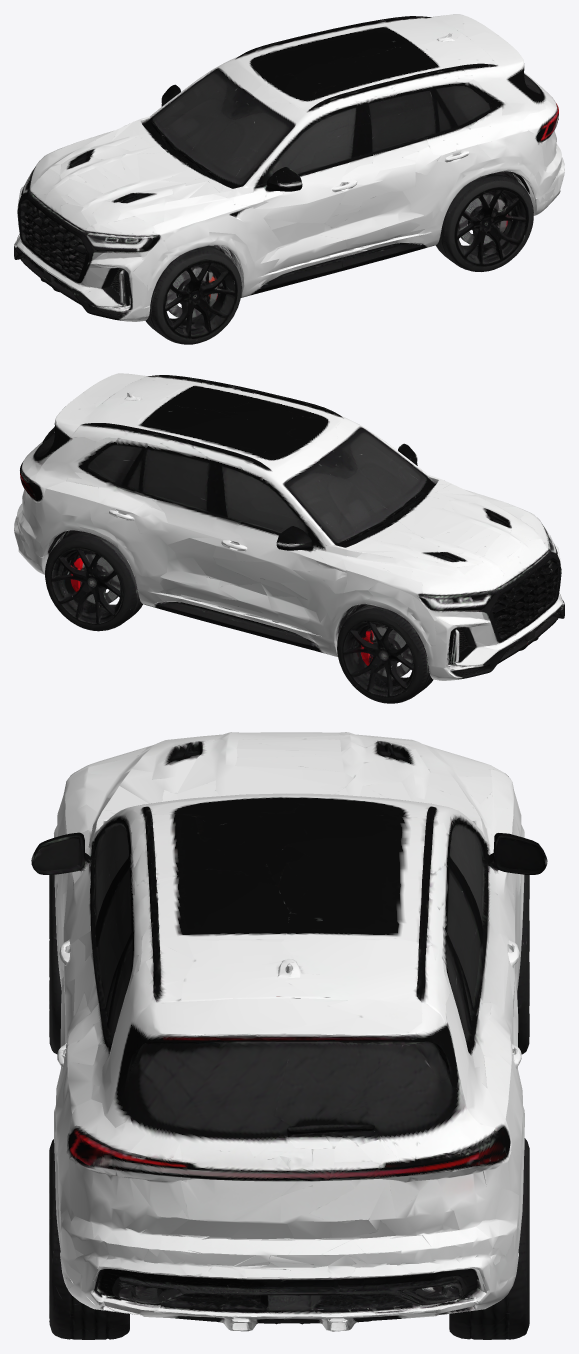
Rendered from suv.glb.
3 views of the same model, one above another, from view 1: azimuth 30°, elevation 25°; view 2: azimuth 150°, elevation 25°; view 3: azimuth 270°, elevation 25° (orthographic). The views are drawn at different scales.
Parts seen in each view (by area): view 1: Mesh_0; view 2: Mesh_0; view 3: Mesh_0.
Part boxes in pixels (bbox=[...]): Mesh_0: bbox=[14, 14, 564, 344]; Mesh_0: bbox=[14, 373, 564, 703]; Mesh_0: bbox=[31, 732, 547, 1339].
Bounding box in the file's own units: 1.9 × 0.7166 × 0.8665.
Materials: 1 (1 with a texture image).
